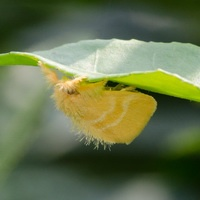insect: (39, 62, 156, 143)
